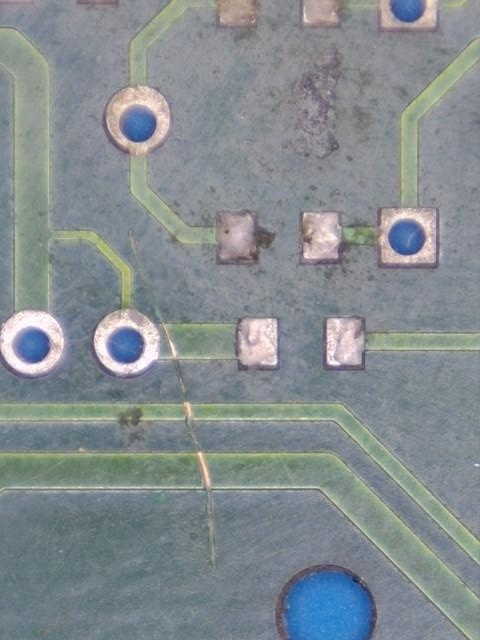pcb_defect: (156, 310, 216, 568), (129, 229, 146, 284)
